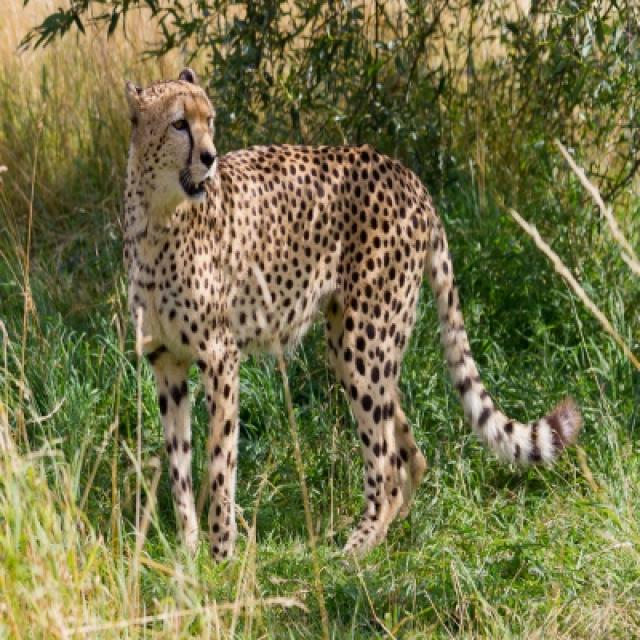Cheetah: (120, 70, 584, 563)
